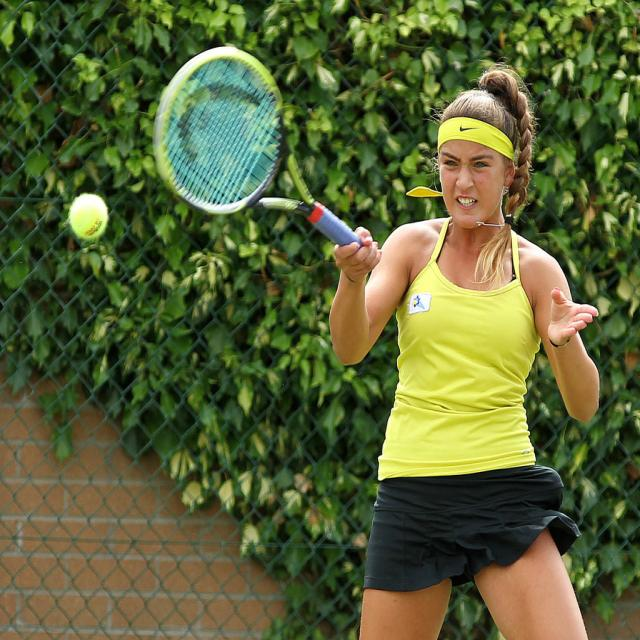ball: (67, 194, 116, 242)
